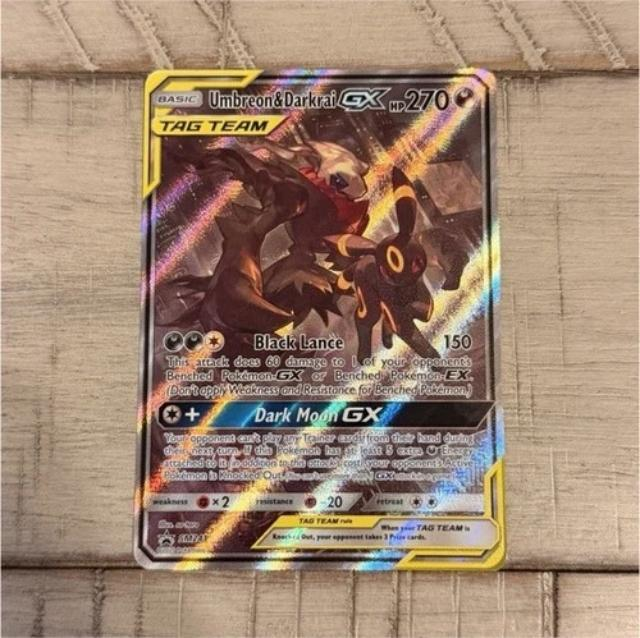Card: (127, 63, 512, 580)
Name: (205, 84, 399, 113)
